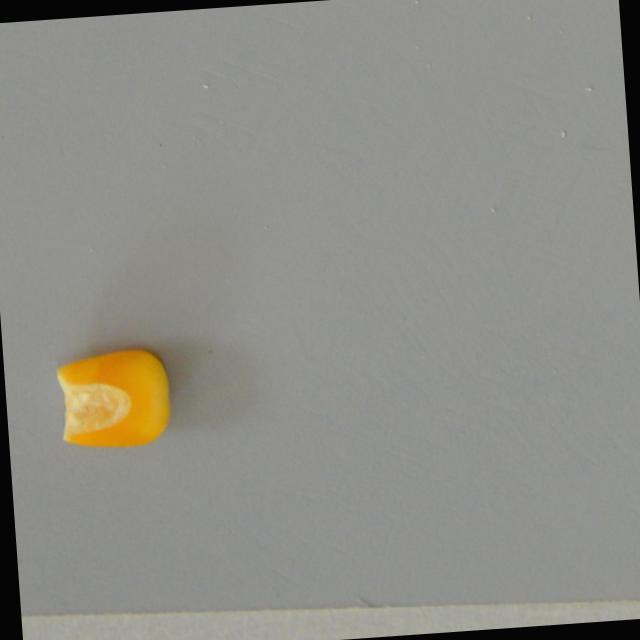no_desgerminado: (53, 347, 174, 451)
